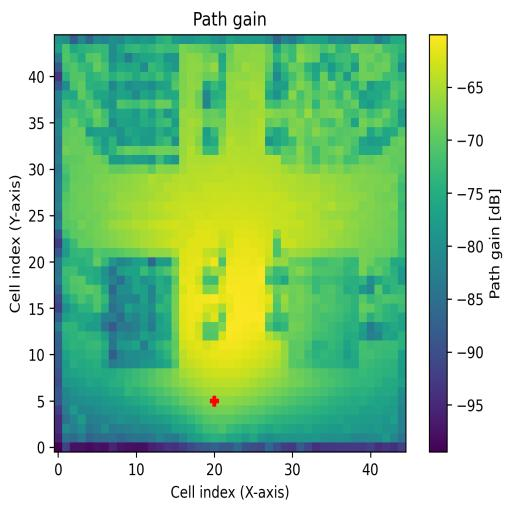Concrete: (282, 44, 384, 154)
Glass: (109, 53, 179, 164)
Metal: (289, 256, 359, 369)
Wood: (109, 256, 172, 368)
